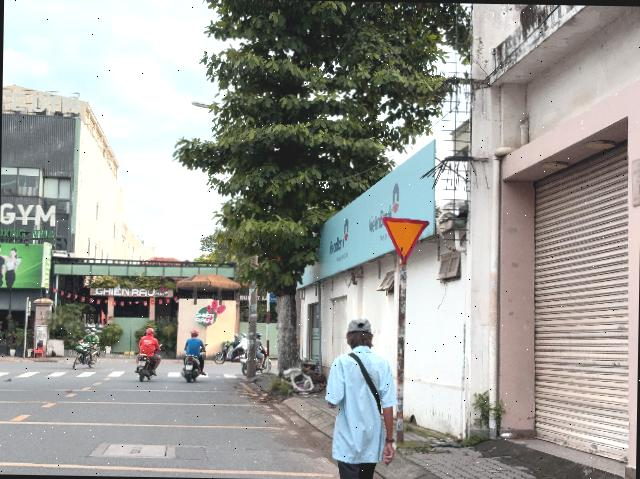giao-nhau-voi-duong-uu-tien: (382, 216, 431, 263)
